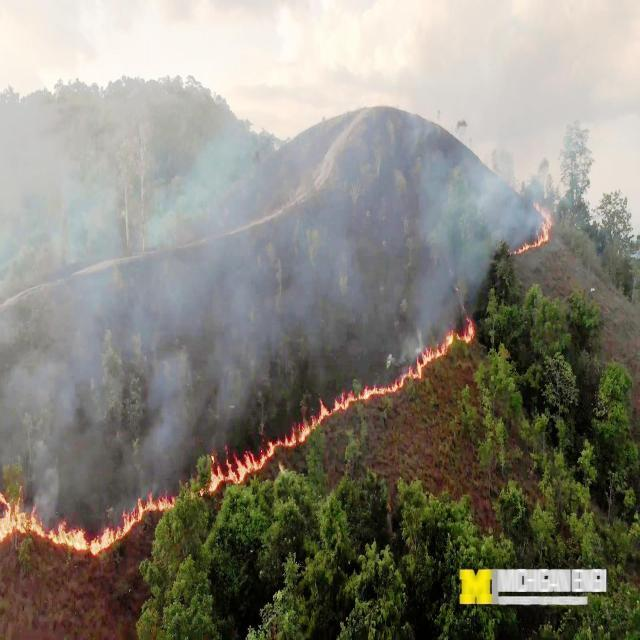Fire: (3, 496, 118, 584), (272, 387, 334, 461), (342, 361, 425, 408), (208, 446, 272, 499), (420, 320, 484, 370), (527, 190, 569, 264), (116, 494, 180, 540)
Smoke: (2, 1, 504, 314), (1, 317, 210, 488), (506, 0, 640, 192), (212, 318, 272, 448)
